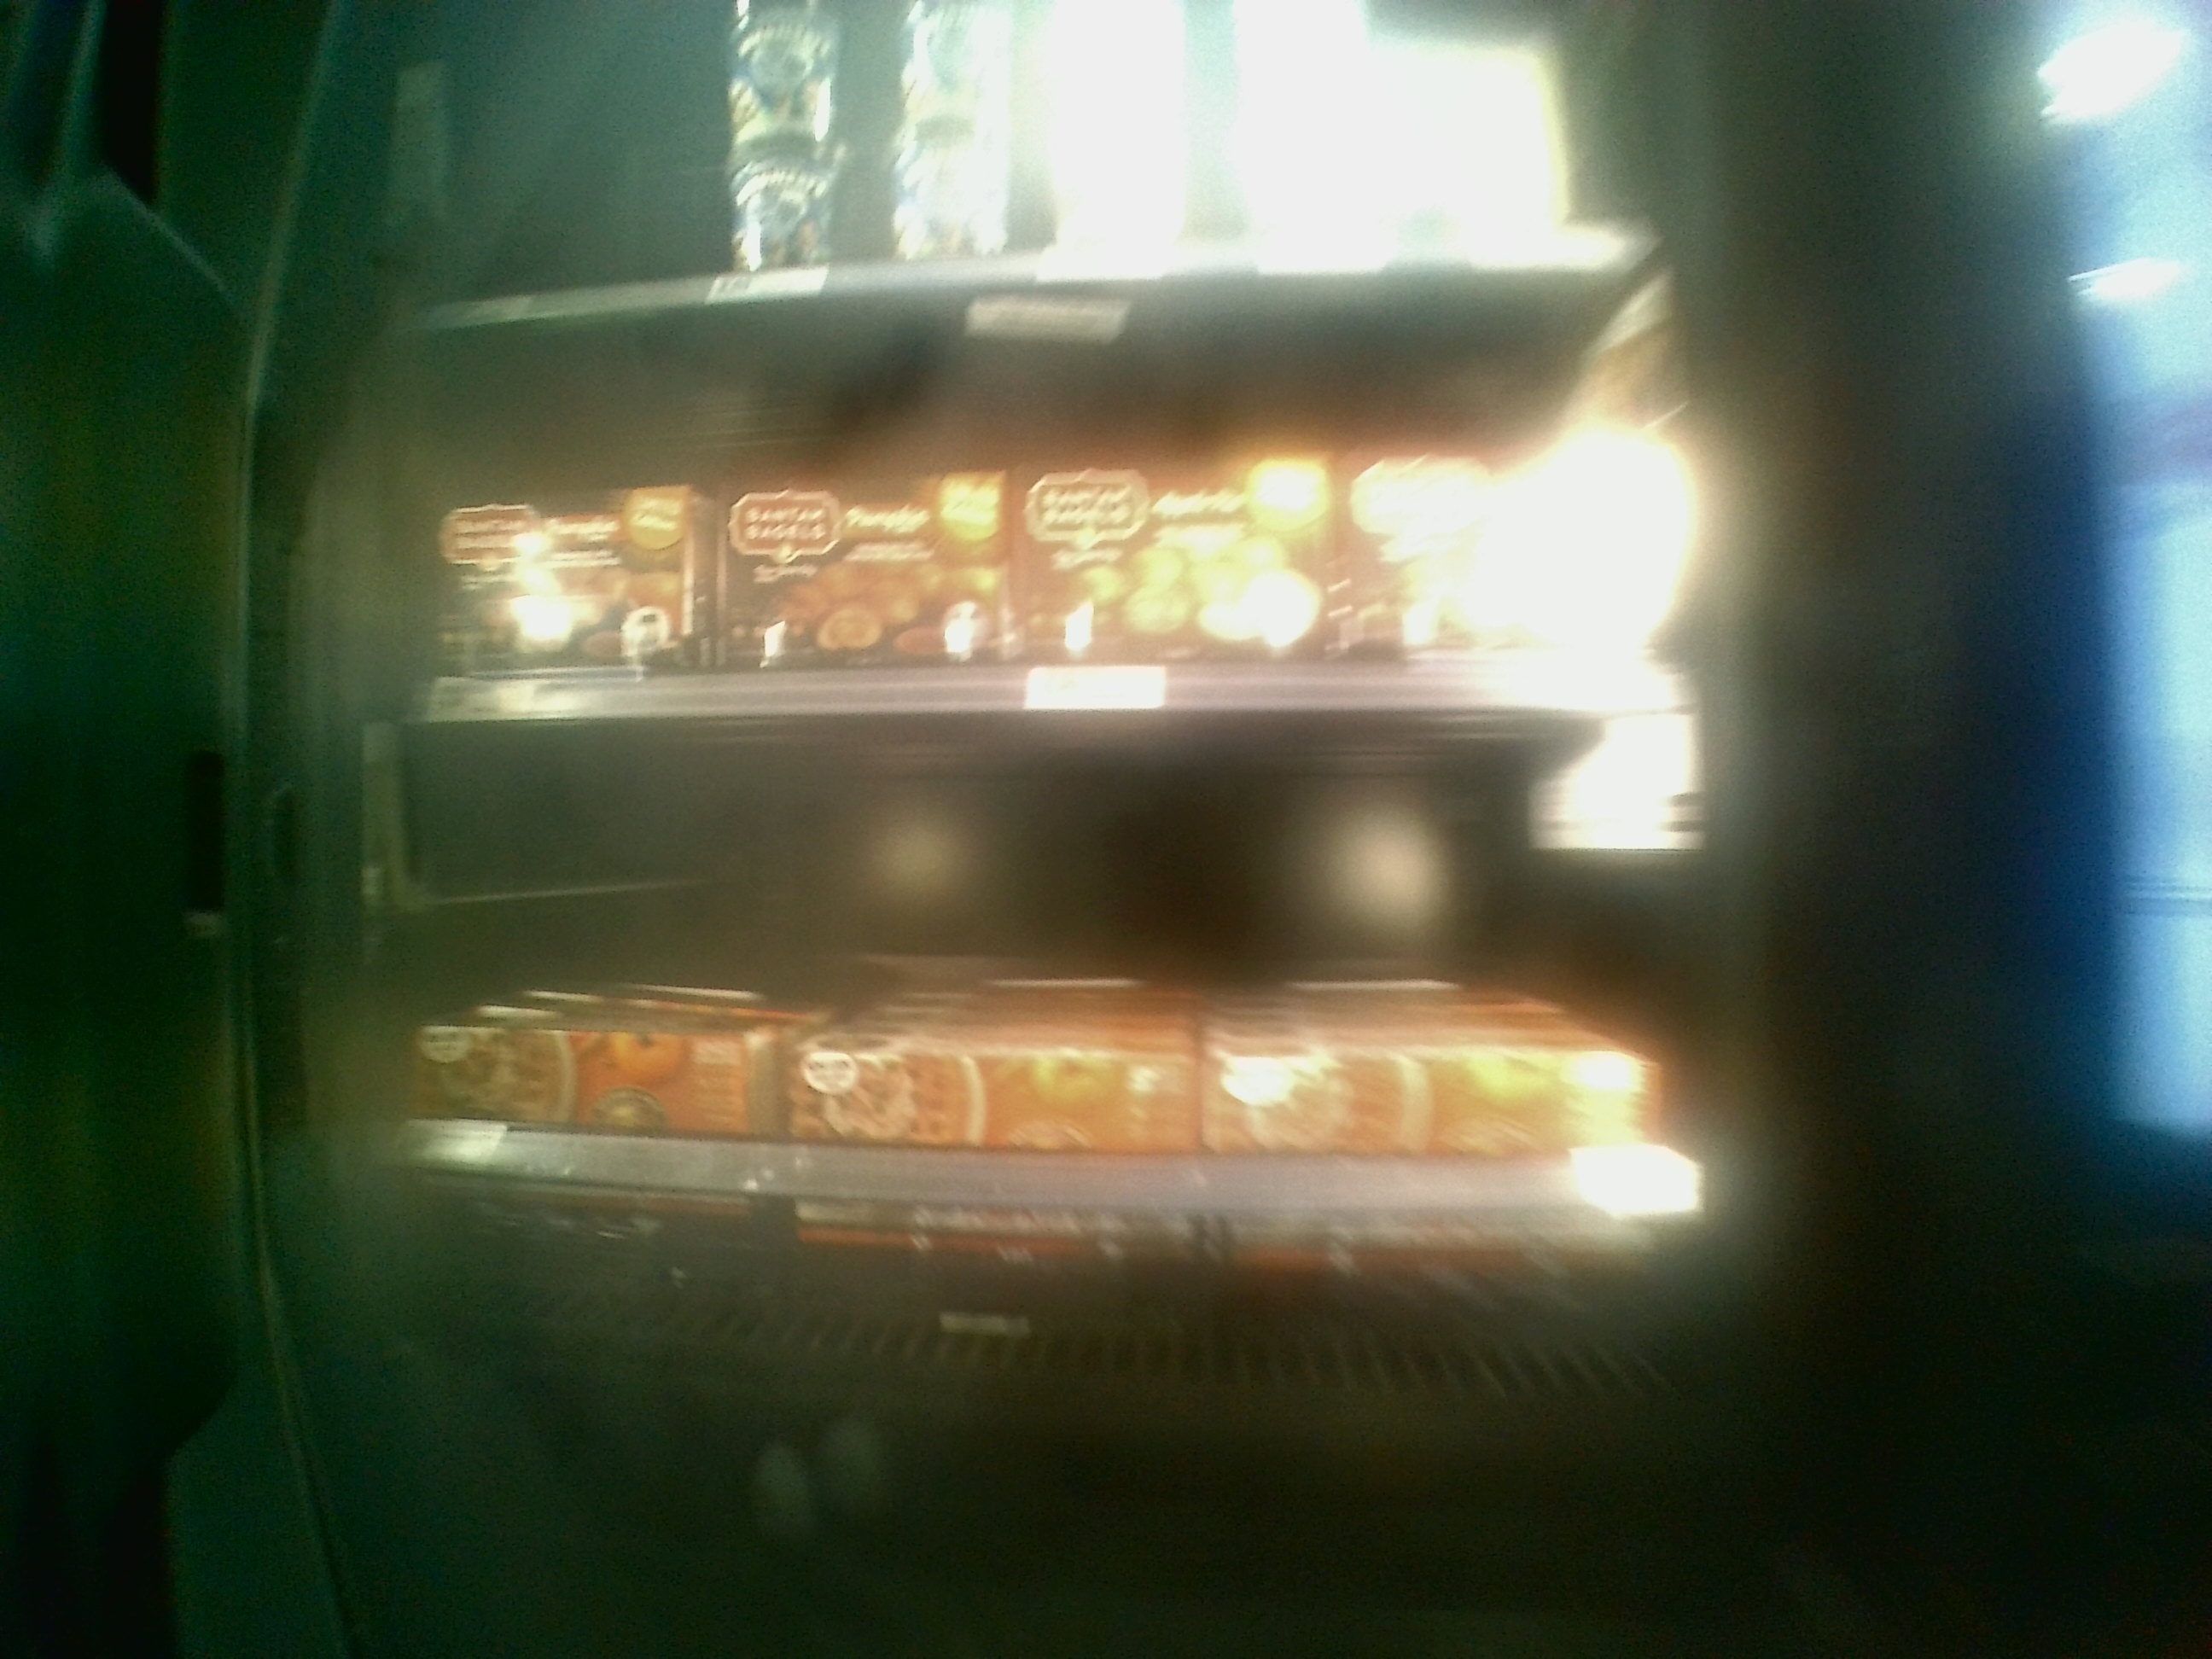shelf: (364, 718, 1742, 1412), (364, 326, 1726, 730)
